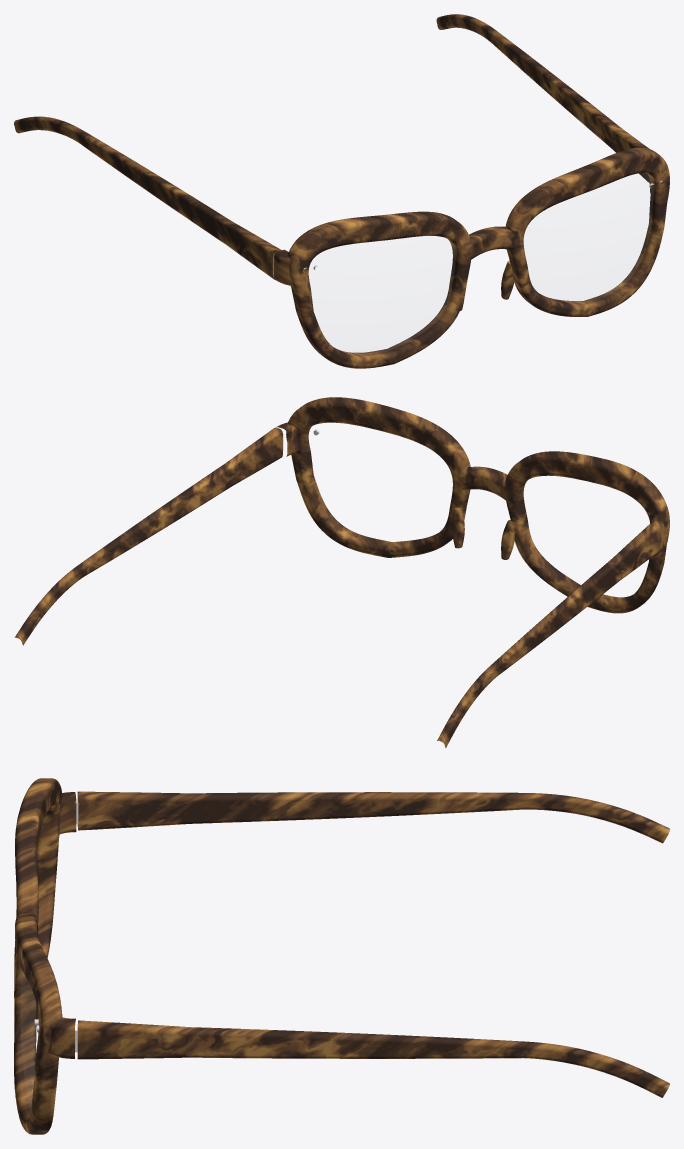
Rendered from r-wayfarer-tort.glb.
The picture shows the model from 3 angles, top to bottom: view 1: azimuth 30°, elevation 25°; view 2: azimuth 150°, elevation 25°; view 3: azimuth 270°, elevation 25°; orthographic projection. The views are drawn at different scales.
Parts seen in each view (by area): view 1: Frame; view 2: Frame; view 3: Frame.
Boxes of the visible parts, box(x1,y1,x2,y2) form: Frame: box(14, 14, 669, 368); Frame: box(14, 397, 669, 747); Frame: box(14, 778, 669, 1134).
Bounding box in the file's own units: 154 × 51.08 × 165.
3 materials, 1 textured.
